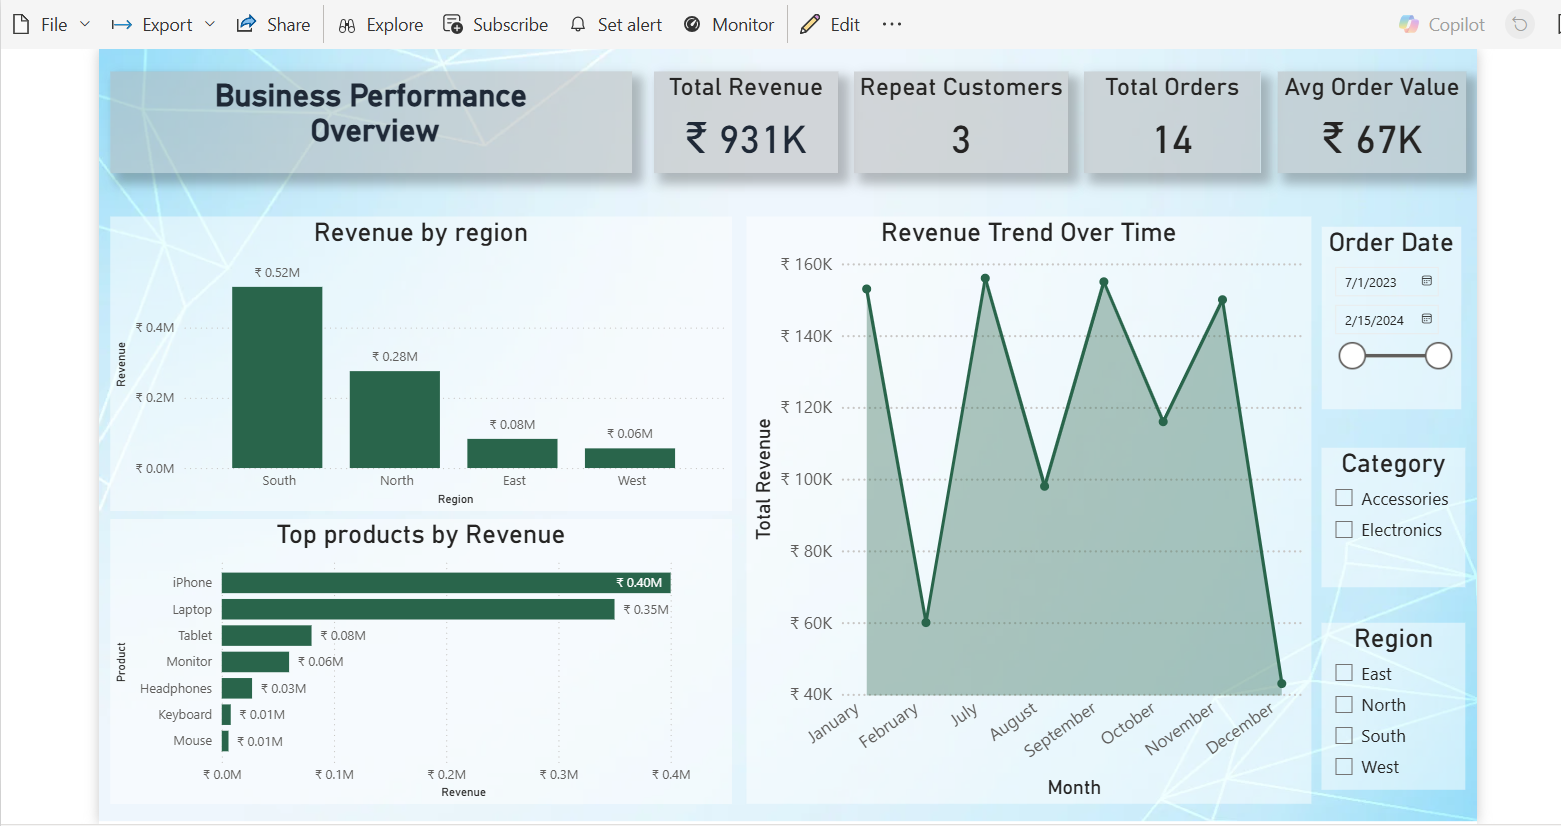

Layout of this report page (visuals, bound fields, positions):
{"tool":"powerbi","page":{"name":"Performance ","canvas":[1280,720],"ordinal":0},"visuals":[{"type":"slicer","title":"Region","fields":{"Values":["business_analytics customers.region"]},"box":[1136,533.1,134,155.4],"z":0},{"type":"card","title":"Total Revenue","fields":{"Values":["order_items.Total Revenue"]},"box":[516,21.4,171,94.1],"z":1000},{"type":"card","title":"Repeat Customers","fields":{"Values":["order_items.Repeat Customers"]},"box":[701.3,21.4,199.6,94.1],"z":2000},{"type":"card","title":"Total Orders","fields":{"Values":["order_items.Total Orders"]},"box":[915.1,21.4,163.9,94.1],"z":3000},{"type":"card","title":"Avg Order Value","fields":{"Values":["order_items.Average Order Value"]},"box":[1094.7,21.4,175.3,94.1],"z":4000},{"type":"lineChart","title":"Revenue Trend Over Time","fields":{"Y":["order_items.Total Revenue"],"Category":["orders.order_date.Variation.Date Hierarchy.Month"]},"box":[601.5,155.4,524.5,545.9],"z":5000},{"type":"barChart","title":"Top products by Revenue","fields":{"Category":["products.product_name"],"Y":["order_items.Total Revenue"]},"box":[10,436.2,577.3,265.1],"z":6000},{"type":"clusteredColumnChart","title":"Revenue by region","fields":{"Y":["order_items.Total Revenue"],"Category":["customers.region"]},"box":[10,155.4,577.3,273.7],"z":7000},{"type":"slicer","title":"Order Date","fields":{"Values":["orders.order_date"]},"box":[1136,165.3,129.7,169.6],"z":8000},{"type":"slicer","title":"Category","fields":{"Values":["products.category"]},"box":[1136,370.6,134,129.7],"z":9000},{"type":"textbox","box":[10,21.4,484.6,94.1],"z":10000}]}

Visuals, with their boxes on the page's 1280x720 design canvas (x1, y1, x2, y2). These are canvas units, not pixel positions in the 1561x826 screenshot, which may show the page scaled, cropped or inside an application window:
"Region" slicer: select_region(1136, 533, 1270, 688)
"Total Revenue" card: select_region(516, 21, 687, 116)
"Repeat Customers" card: select_region(701, 21, 901, 116)
"Total Orders" card: select_region(915, 21, 1079, 116)
"Avg Order Value" card: select_region(1095, 21, 1270, 116)
"Revenue Trend Over Time" lineChart: select_region(602, 155, 1126, 701)
"Top products by Revenue" barChart: select_region(10, 436, 587, 701)
"Revenue by region" clusteredColumnChart: select_region(10, 155, 587, 429)
"Order Date" slicer: select_region(1136, 165, 1266, 335)
"Category" slicer: select_region(1136, 371, 1270, 500)
textbox: select_region(10, 21, 495, 116)
